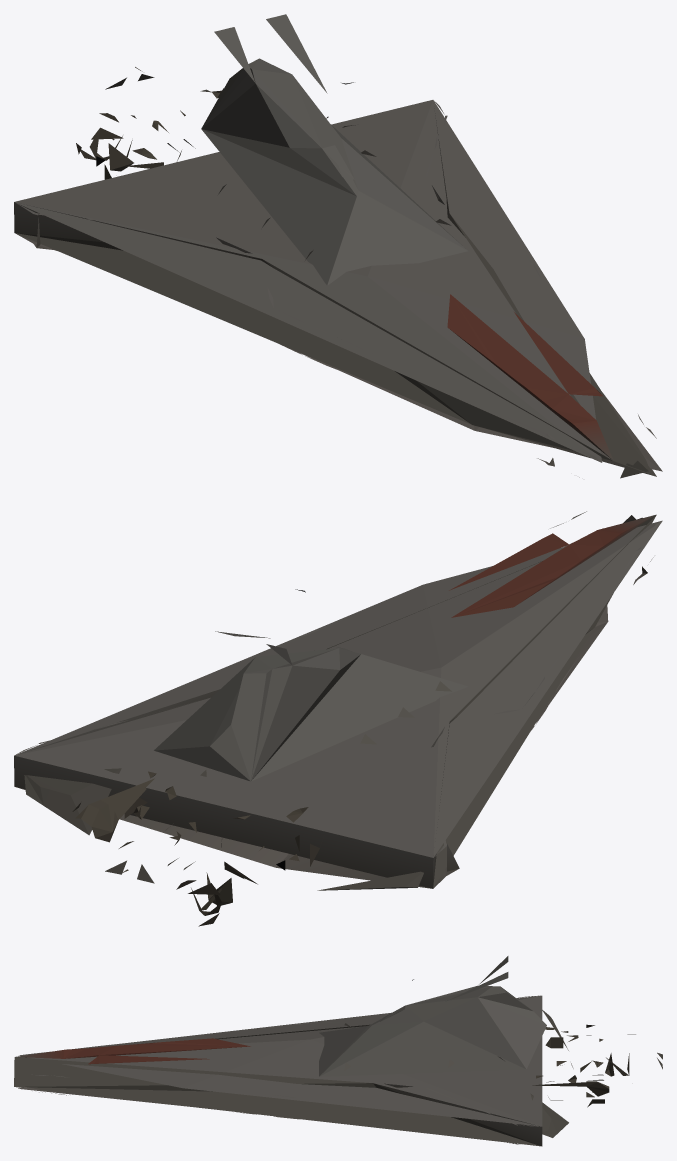
3 views of the same model, one above another, from view 1: azimuth 30°, elevation 25°; view 2: azimuth 150°, elevation 25°; view 3: azimuth 270°, elevation 25° (orthographic). The views are drawn at different scales.
Parts seen in each view (by area): view 1: venator_bridge_Venator Bridge_0; view 2: venator_bridge_Venator Bridge_0; view 3: venator_bridge_Venator Bridge_0.
Part boxes in pixels (left/top/right/bottom): venator_bridge_Venator Bridge_0: left=14, top=14, right=662, bottom=478; venator_bridge_Venator Bridge_0: left=14, top=511, right=662, bottom=926; venator_bridge_Venator Bridge_0: left=14, top=956, right=662, bottom=1146.
Size of the model in its own units: 5870190 by 2820586 by 1.22e+07.
